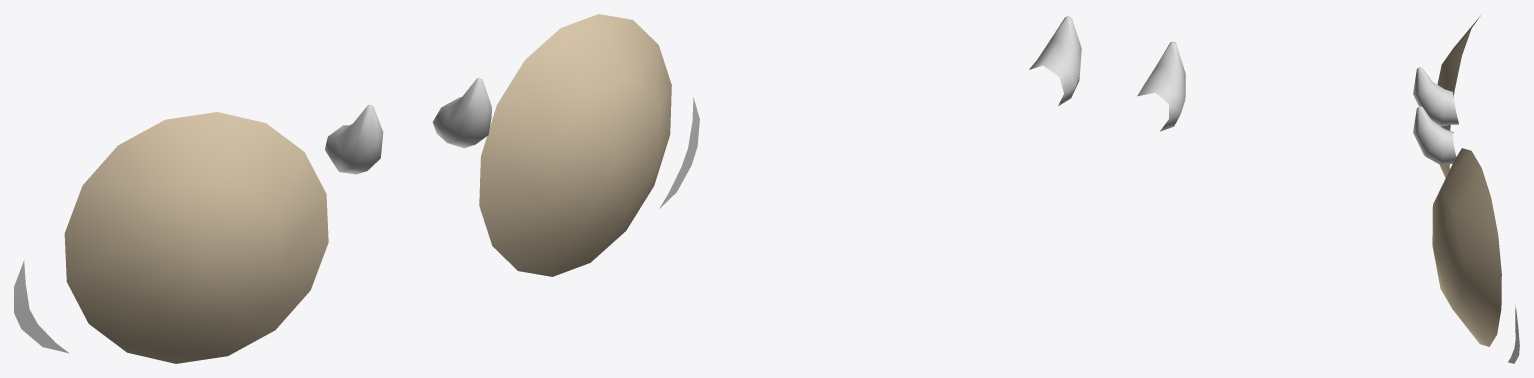
The model's file is S12_Aquatic04_L2_Eye.glb.
3 views of the same model, side by side, from view 1: azimuth 30°, elevation 25°; view 2: azimuth 150°, elevation 25°; view 3: azimuth 270°, elevation 25° (orthographic). The views are drawn at different scales.
Visible parts, largest first — view 1: S12_Aquatic04_L2_Eye__Eye_M__surface0__lod0; view 2: S12_Aquatic04_L2_Eye__Eye_M__surface0__lod0; view 3: S12_Aquatic04_L2_Eye__Eye_M__surface0__lod0.
Boxes of the visible parts, left/top/right/bottom form: S12_Aquatic04_L2_Eye__Eye_M__surface0__lod0: left=14, top=14, right=699, bottom=363; S12_Aquatic04_L2_Eye__Eye_M__surface0__lod0: left=1029, top=16, right=1185, bottom=131; S12_Aquatic04_L2_Eye__Eye_M__surface0__lod0: left=1413, top=15, right=1519, bottom=363.
Size of the model in its own units: 68.6 by 24.11 by 12.68.
